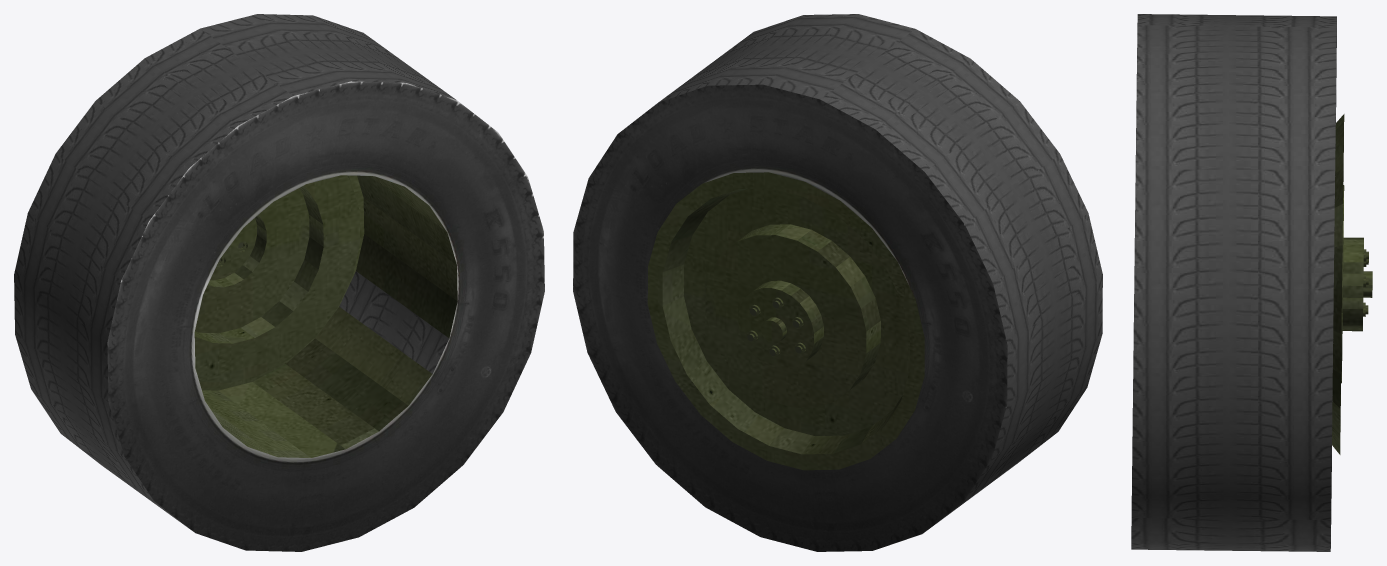
The model's file is wheel.DAE.
3 views of the same model, side by side, from view 1: azimuth 30°, elevation 25°; view 2: azimuth 150°, elevation 25°; view 3: azimuth 270°, elevation 25° (orthographic). The views are drawn at different scales.
Visible parts, largest first — view 1: JeepWheel; view 2: JeepWheel; view 3: JeepWheel.
Boxes of the visible parts, left/top/right/bottom form: JeepWheel: left=14, top=14, right=544, bottom=551; JeepWheel: left=573, top=14, right=1102, bottom=551; JeepWheel: left=1131, top=14, right=1372, bottom=551.
Size of what is drawn, in the model's own units: 42.65 by 19.31 by 42.73.
5 materials, 4 textured.
